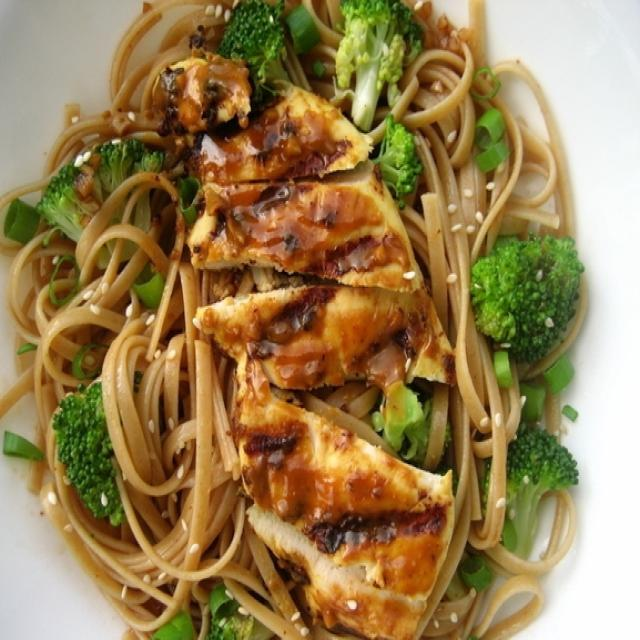面条主食: (10, 11, 591, 626)
